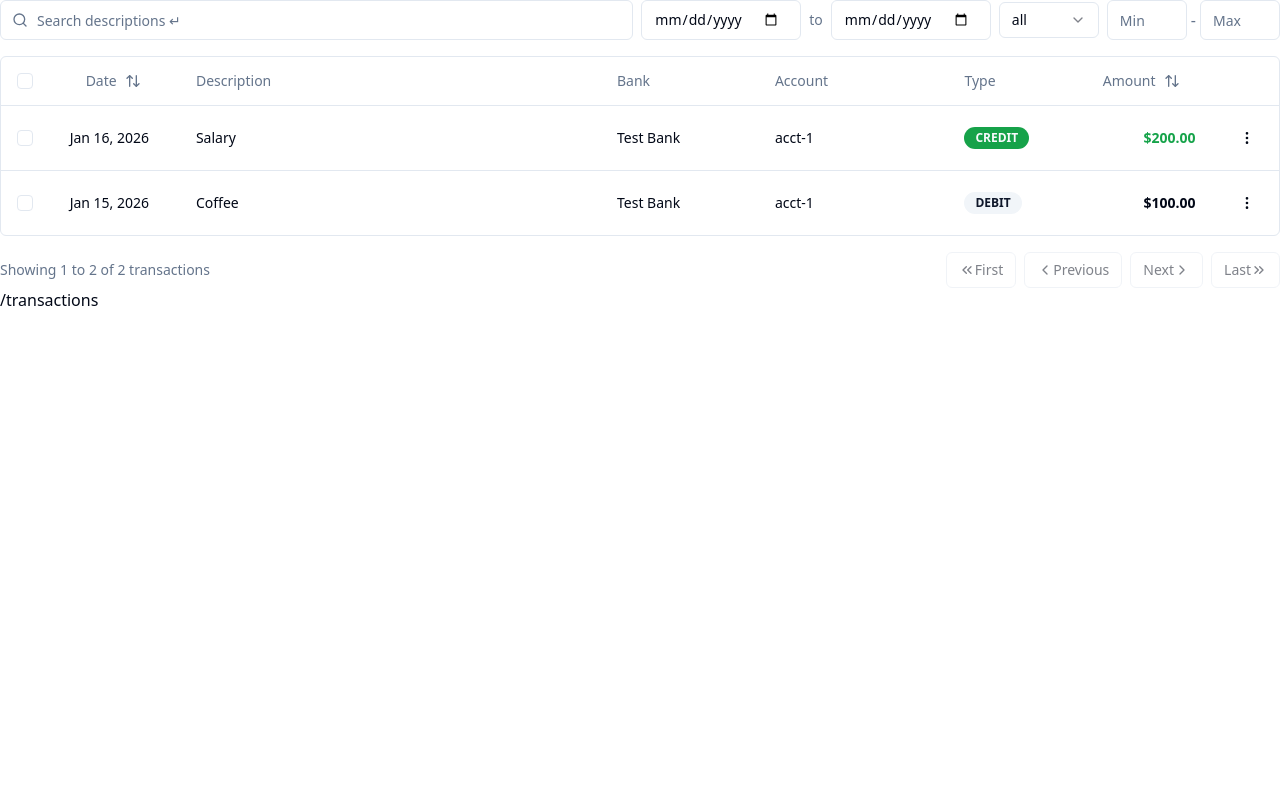
it: TransactionTable bulk deletion › clears selection and converges on the refreshed table after full deletion
The image size is (1280, 800).
expect the text "Salary" is shown: met, box x1=196 y1=128 x2=236 y2=146
Click the checkbox named "Select transactions on this page for deletion" at (25, 81), box x1=17 y1=73 x2=33 y2=89
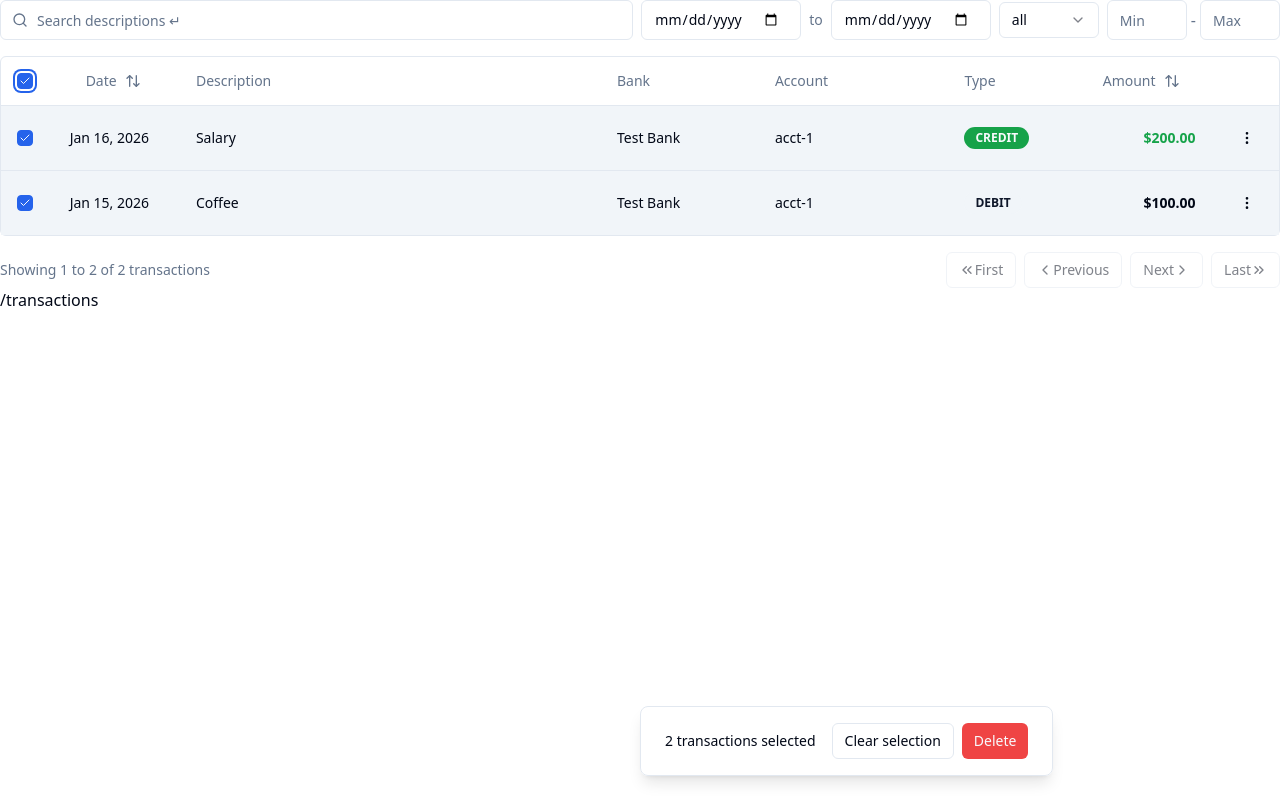
expect the text "2 transactions selected" is shown: met, box x1=665 y1=731 x2=816 y2=751
Click the button "Delete" at (995, 741), box x1=962 y1=723 x2=1028 y2=759
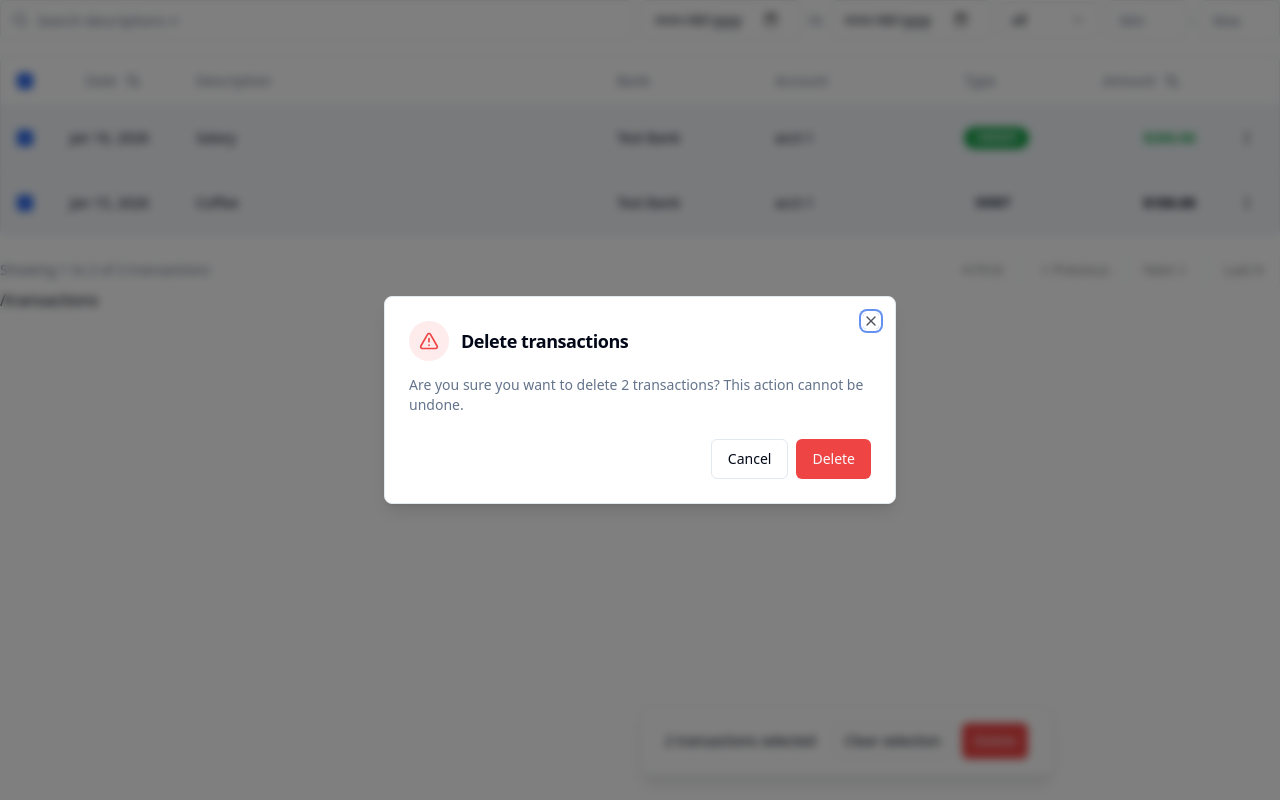
Click the button "Delete" at (834, 459), box x1=796 y1=439 x2=871 y2=479
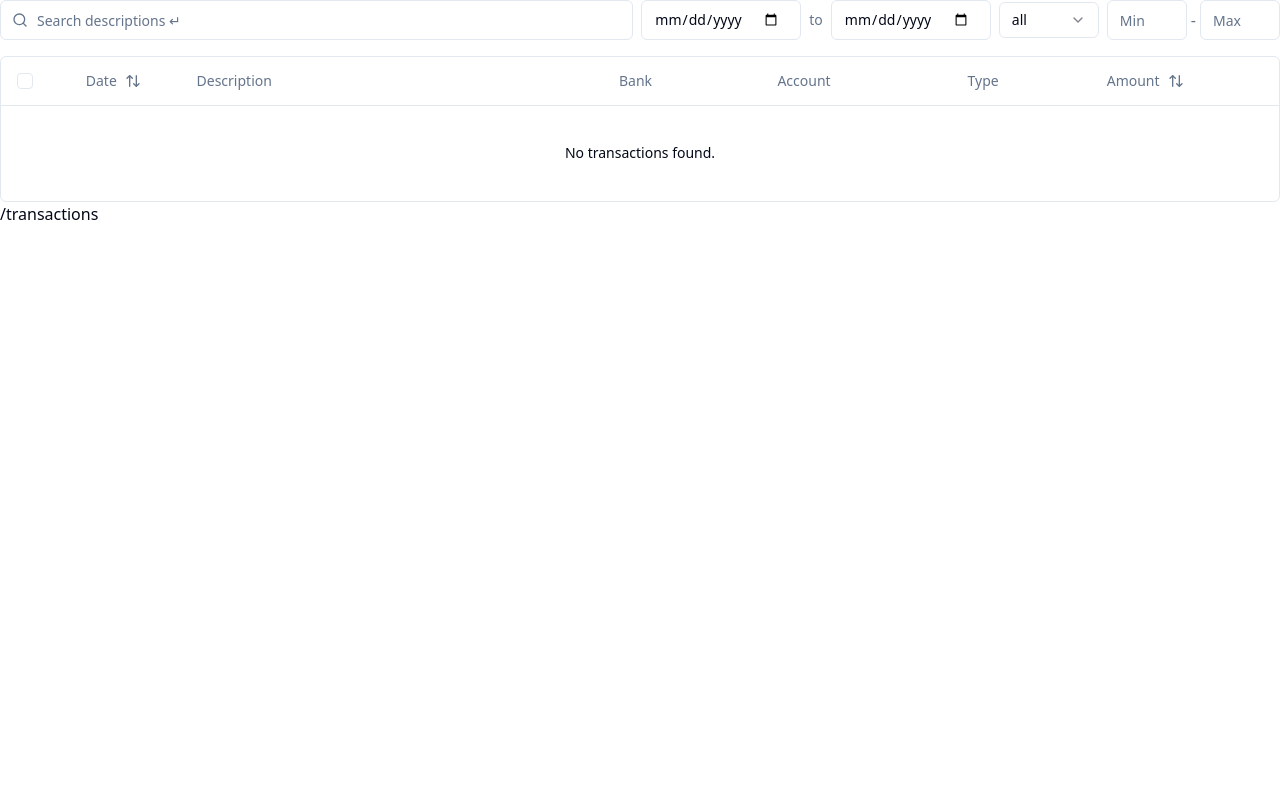
expect the text "Coffee" is gone: met
expect the text "Salary" is gone: met
expect the text "2 transactions selected" is gone: met
